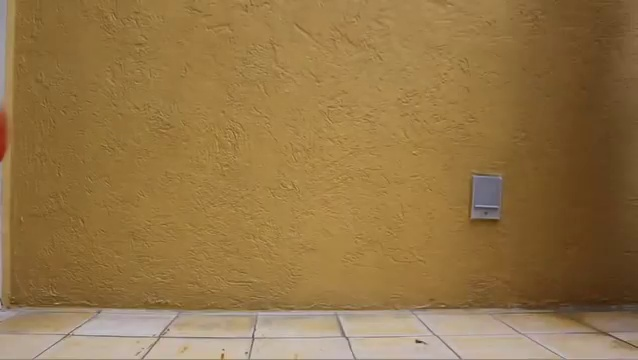ball: (1, 108, 10, 157)
